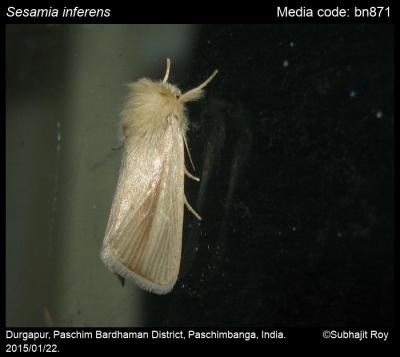Noctuidae: (98, 56, 220, 299)
